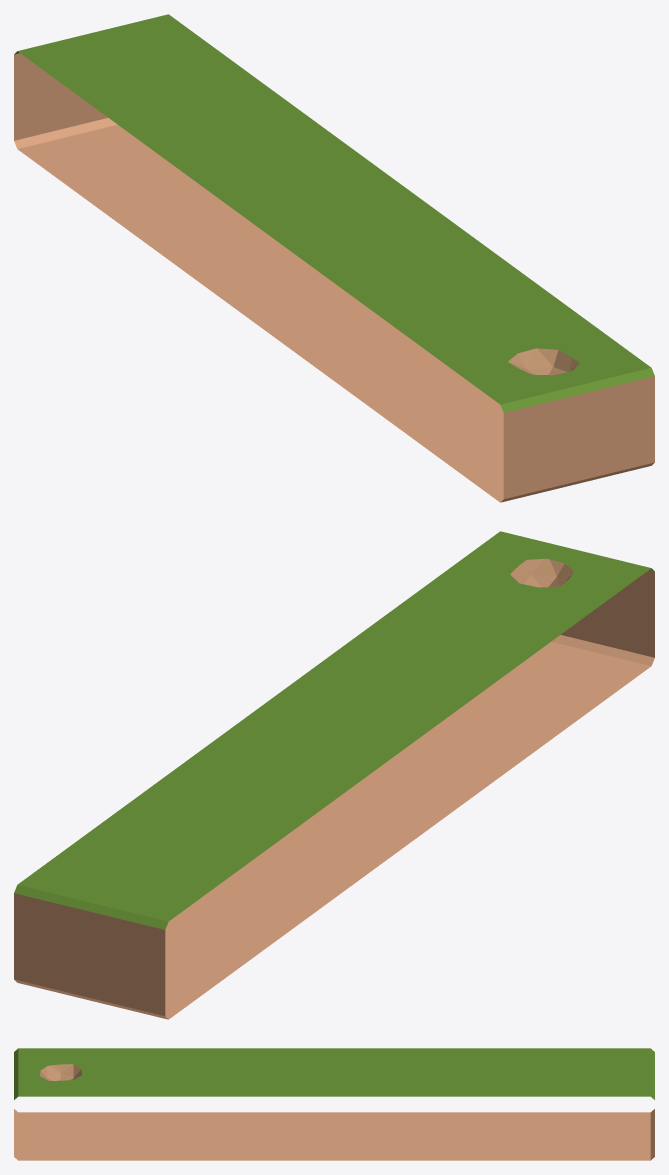
File: chao_meio_com_buraco.fbx
3 renders of one model, top to bottom at view 1: azimuth 30°, elevation 25°; view 2: azimuth 150°, elevation 25°; view 3: azimuth 270°, elevation 25°, orthographic. The views are drawn at different scales.
Visible parts, largest first — view 1: Cube.012; view 2: Cube.012; view 3: Cube.012.
Part boxes in pixels (x1,y1,x2,y2): Cube.012: [14, 14, 654, 502]; Cube.012: [14, 531, 654, 1019]; Cube.012: [14, 1048, 654, 1160].
Bounding box in the file's own units: 2030 × 1257 × 11382.
Materials: 1 (1 with a texture image).
